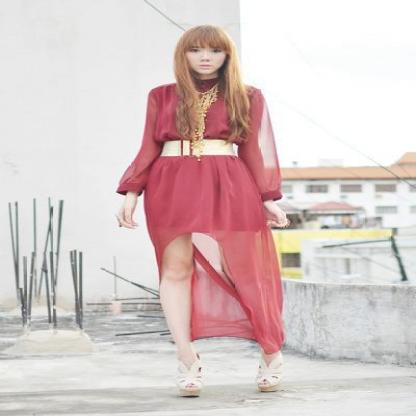dress: (116, 85, 286, 346)
shoe: (172, 356, 278, 399)
